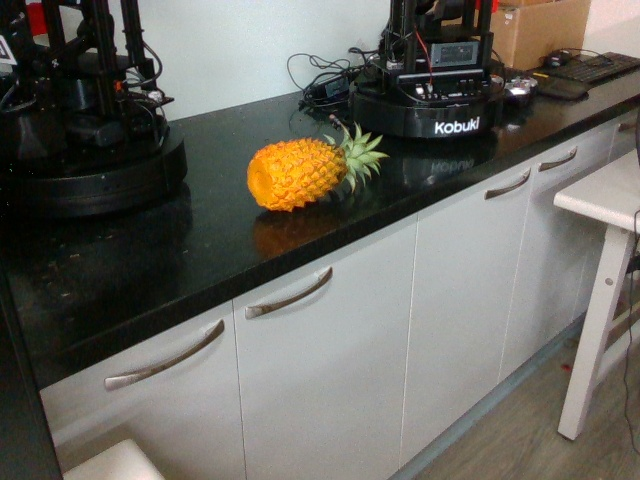pineapple: (235, 133, 387, 209)
